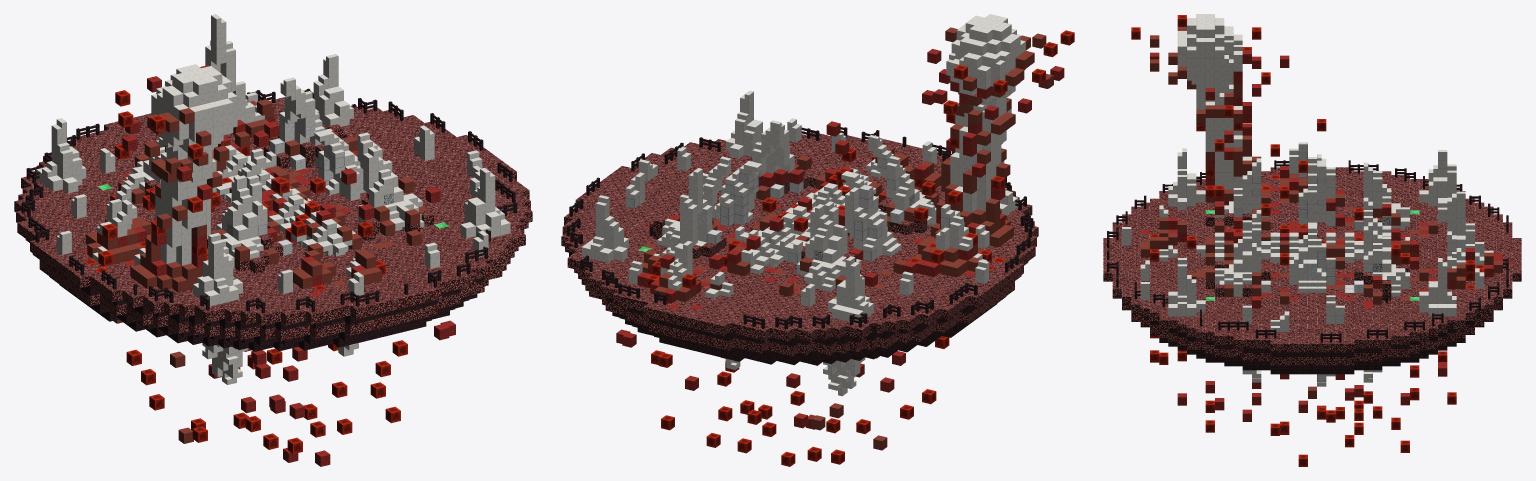
File: mid.glb
The picture shows the model from 3 angles, left to right: view 1: azimuth 30°, elevation 25°; view 2: azimuth 150°, elevation 25°; view 3: azimuth 270°, elevation 25°; orthographic projection. The views are drawn at different scales.
Visible parts, largest first — view 1: minecraft:netherrack; view 2: minecraft:netherrack; view 3: minecraft:netherrack.
Part boxes in pixels (x1,y1,x2,y2): minecraft:netherrack: (14,14,532,466); minecraft:netherrack: (561,14,1074,466); minecraft:netherrack: (1103,14,1521,466).
Size of the model in its own units: 45 by 44 by 45.
13 materials, 13 textured.
